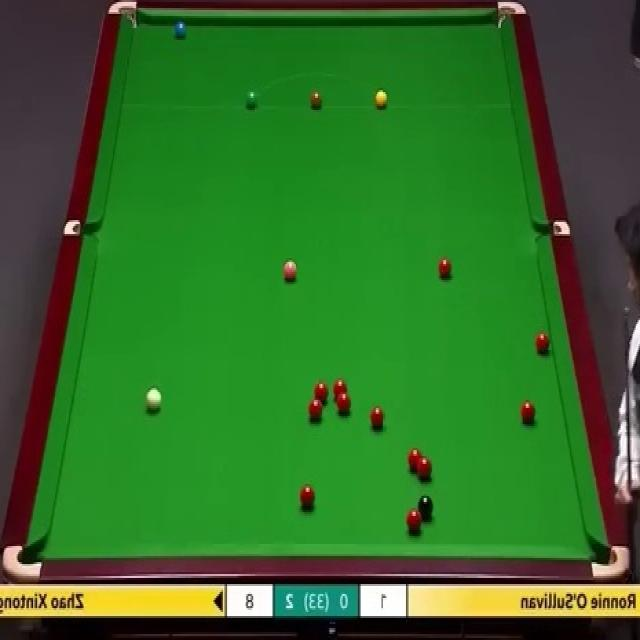black-ball: (417, 494, 434, 521)
blue-ball: (173, 17, 188, 42)
brown-ball: (309, 91, 323, 111)
green-ball: (246, 90, 260, 112)
pink-ball: (280, 256, 299, 284)
red-ball: (405, 509, 423, 536), (520, 398, 537, 426), (415, 457, 434, 482), (534, 330, 552, 356), (368, 408, 384, 432), (300, 485, 315, 510), (336, 393, 352, 416), (437, 256, 452, 280), (332, 379, 349, 400), (406, 448, 422, 470), (308, 398, 323, 420), (313, 382, 329, 402)
white-ball: (146, 386, 162, 413)
yellow-ball: (374, 90, 388, 110)
